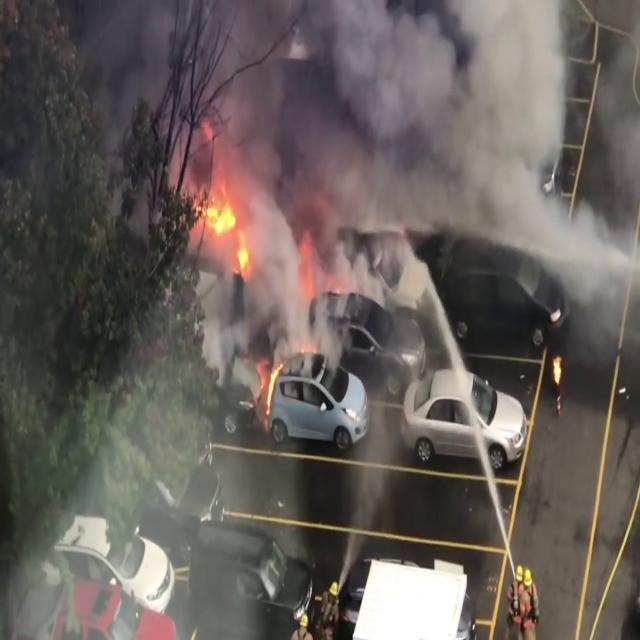Fire: (190, 184, 253, 270), (255, 354, 285, 418)
Smoke: (123, 0, 604, 272)
